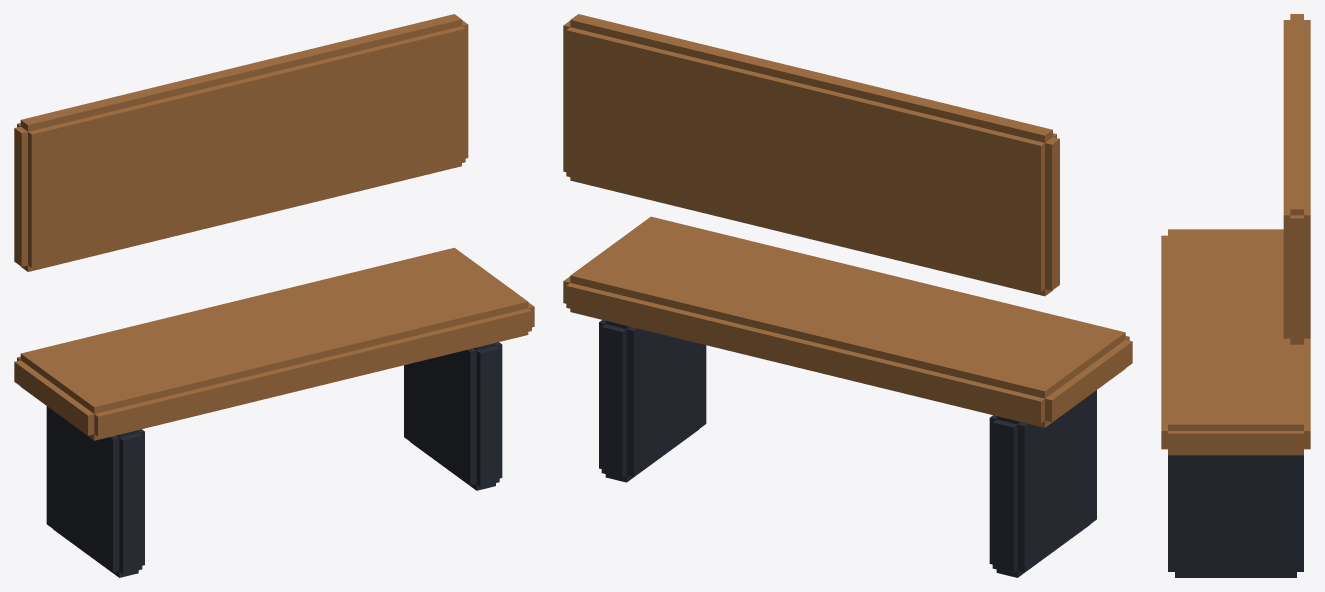
Rendered from bench.glb.
3 views of the same model, side by side, from view 1: azimuth 30°, elevation 25°; view 2: azimuth 150°, elevation 25°; view 3: azimuth 270°, elevation 25° (orthographic). The views are drawn at different scales.
Visible parts, largest first — view 1: bench; view 2: bench; view 3: bench.
Boxes of the visible parts, box(x1,y1,x2,y2) form: bench: box(14, 14, 534, 577); bench: box(563, 14, 1132, 577); bench: box(1161, 14, 1310, 577).
Bounding box in the file's own units: 0.7 × 0.62 × 0.22.
